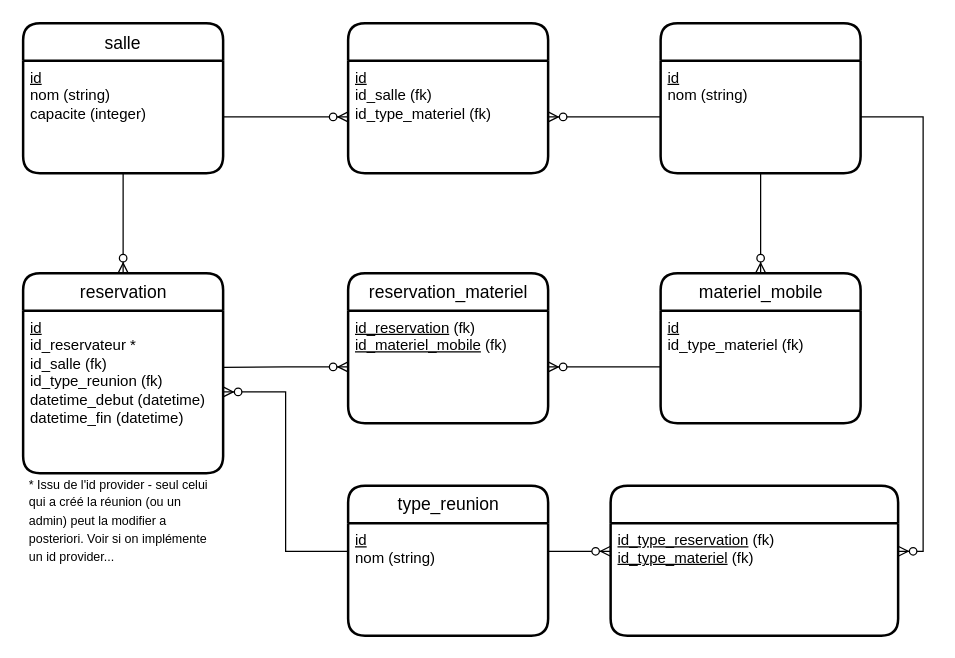
Image size: 955x658. Some labels were removed from this diagram. The shapes that lost their labels are listed below. From the top down, each one's box as (x1, y1, x2, y2) in pixels, then its label:
(346, 21, 549, 174): materiel_fixe
(659, 21, 861, 174): type_materiel
(609, 484, 899, 636): type_reservation_materiel_requis
